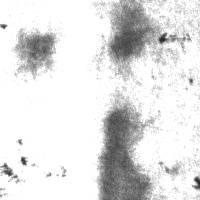patches: (100, 109, 149, 199), (107, 2, 156, 60), (17, 29, 59, 73)
